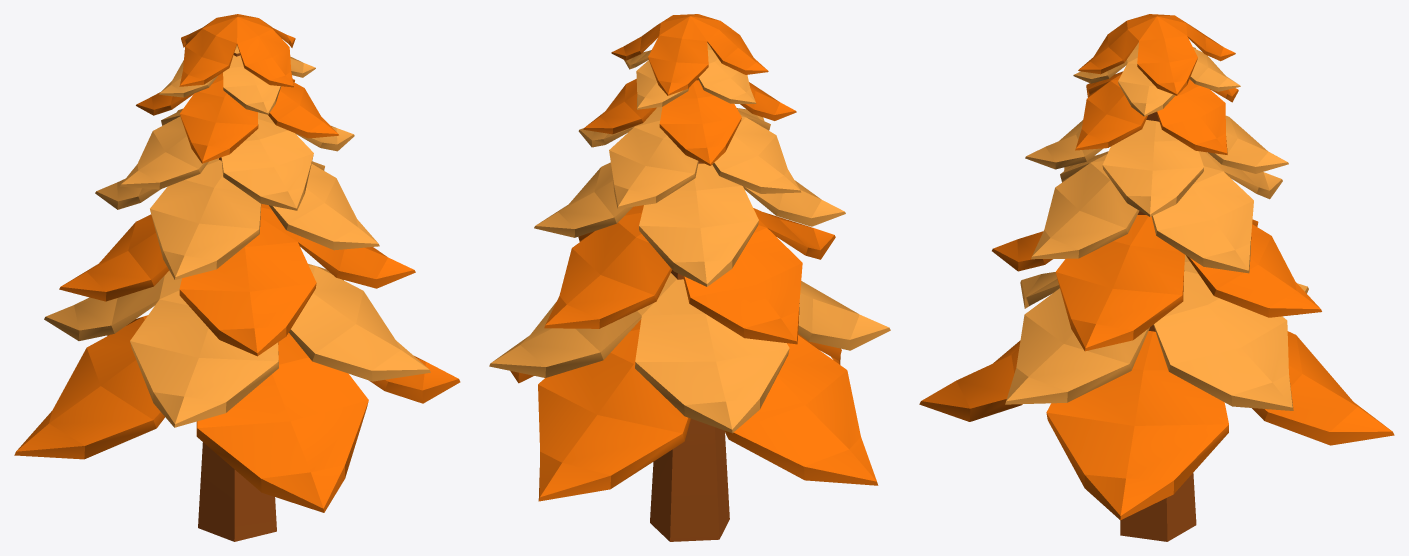
The model's file is Tree_01_Fall.fbx.
The picture shows the model from 3 angles, left to right: view 1: azimuth 30°, elevation 25°; view 2: azimuth 150°, elevation 25°; view 3: azimuth 270°, elevation 25°; orthographic projection.
Visible parts, largest first — view 1: Tree_01_p2_Fall, Tree_01_p1_Fall; view 2: Tree_01_p2_Fall, Tree_01_p1_Fall; view 3: Tree_01_p2_Fall, Tree_01_p1_Fall.
Boxes of the visible parts, left/top/right/bottom form: Tree_01_p2_Fall: left=14, top=14, right=460, bottom=512; Tree_01_p1_Fall: left=198, top=44, right=276, bottom=541; Tree_01_p2_Fall: left=489, top=14, right=890, bottom=501; Tree_01_p1_Fall: left=650, top=79, right=729, bottom=541; Tree_01_p2_Fall: left=919, top=14, right=1394, bottom=520; Tree_01_p1_Fall: left=1120, top=112, right=1196, bottom=541.
Size of the model in its own units: 305 by 360 by 305.
